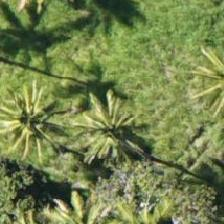coconut_tree: (0, 73, 81, 163)
